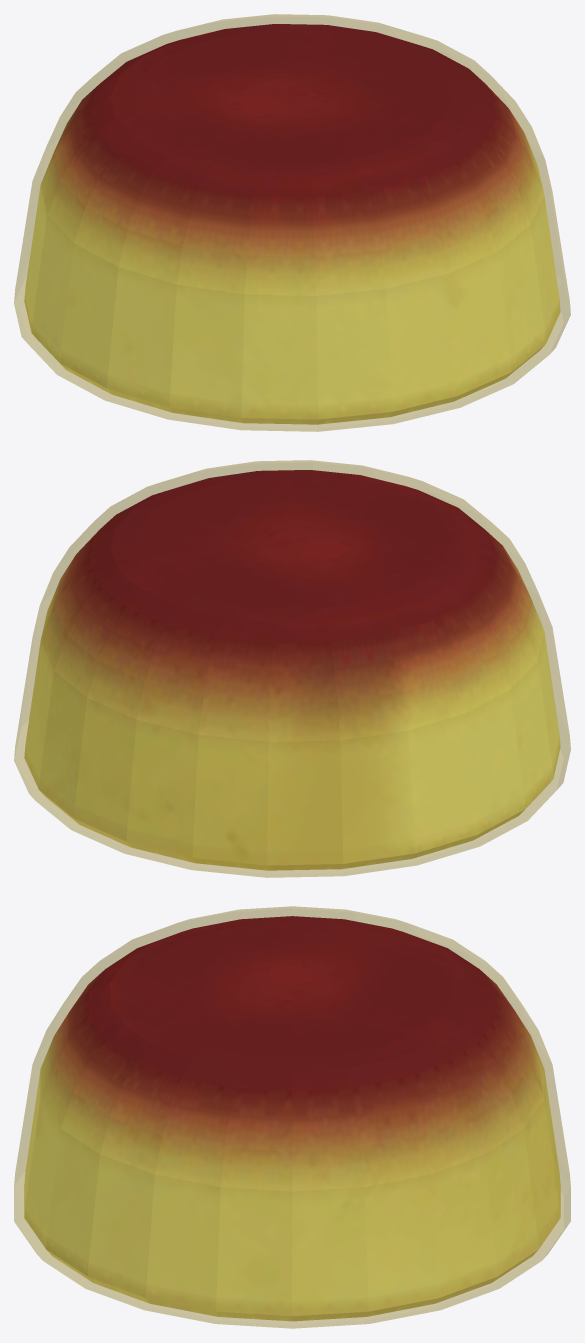
Rendered from pudding.glb.
The picture shows the model from 3 angles, top to bottom: view 1: azimuth 30°, elevation 25°; view 2: azimuth 150°, elevation 25°; view 3: azimuth 270°, elevation 25°; orthographic projection.
Parts seen in each view (by area): view 1: Material2, Material3; view 2: Material2, Material3; view 3: Material2, Material3.
Boxes of the visible parts, bbox=[...] form: Material2: bbox=[24, 24, 560, 424]; Material3: bbox=[14, 14, 570, 431]; Material2: bbox=[24, 470, 560, 870]; Material3: bbox=[14, 460, 570, 877]; Material2: bbox=[24, 916, 560, 1321]; Material3: bbox=[14, 906, 570, 1328].
Size of what is drawn, in the model's own units: 5.35 by 2.44 by 5.3.
2 materials, 2 textured.
